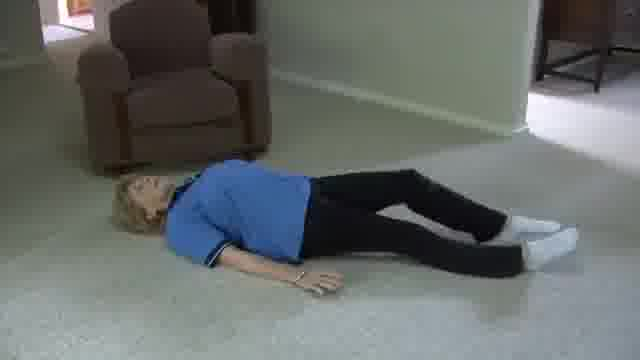falling: (116, 139, 577, 304)
